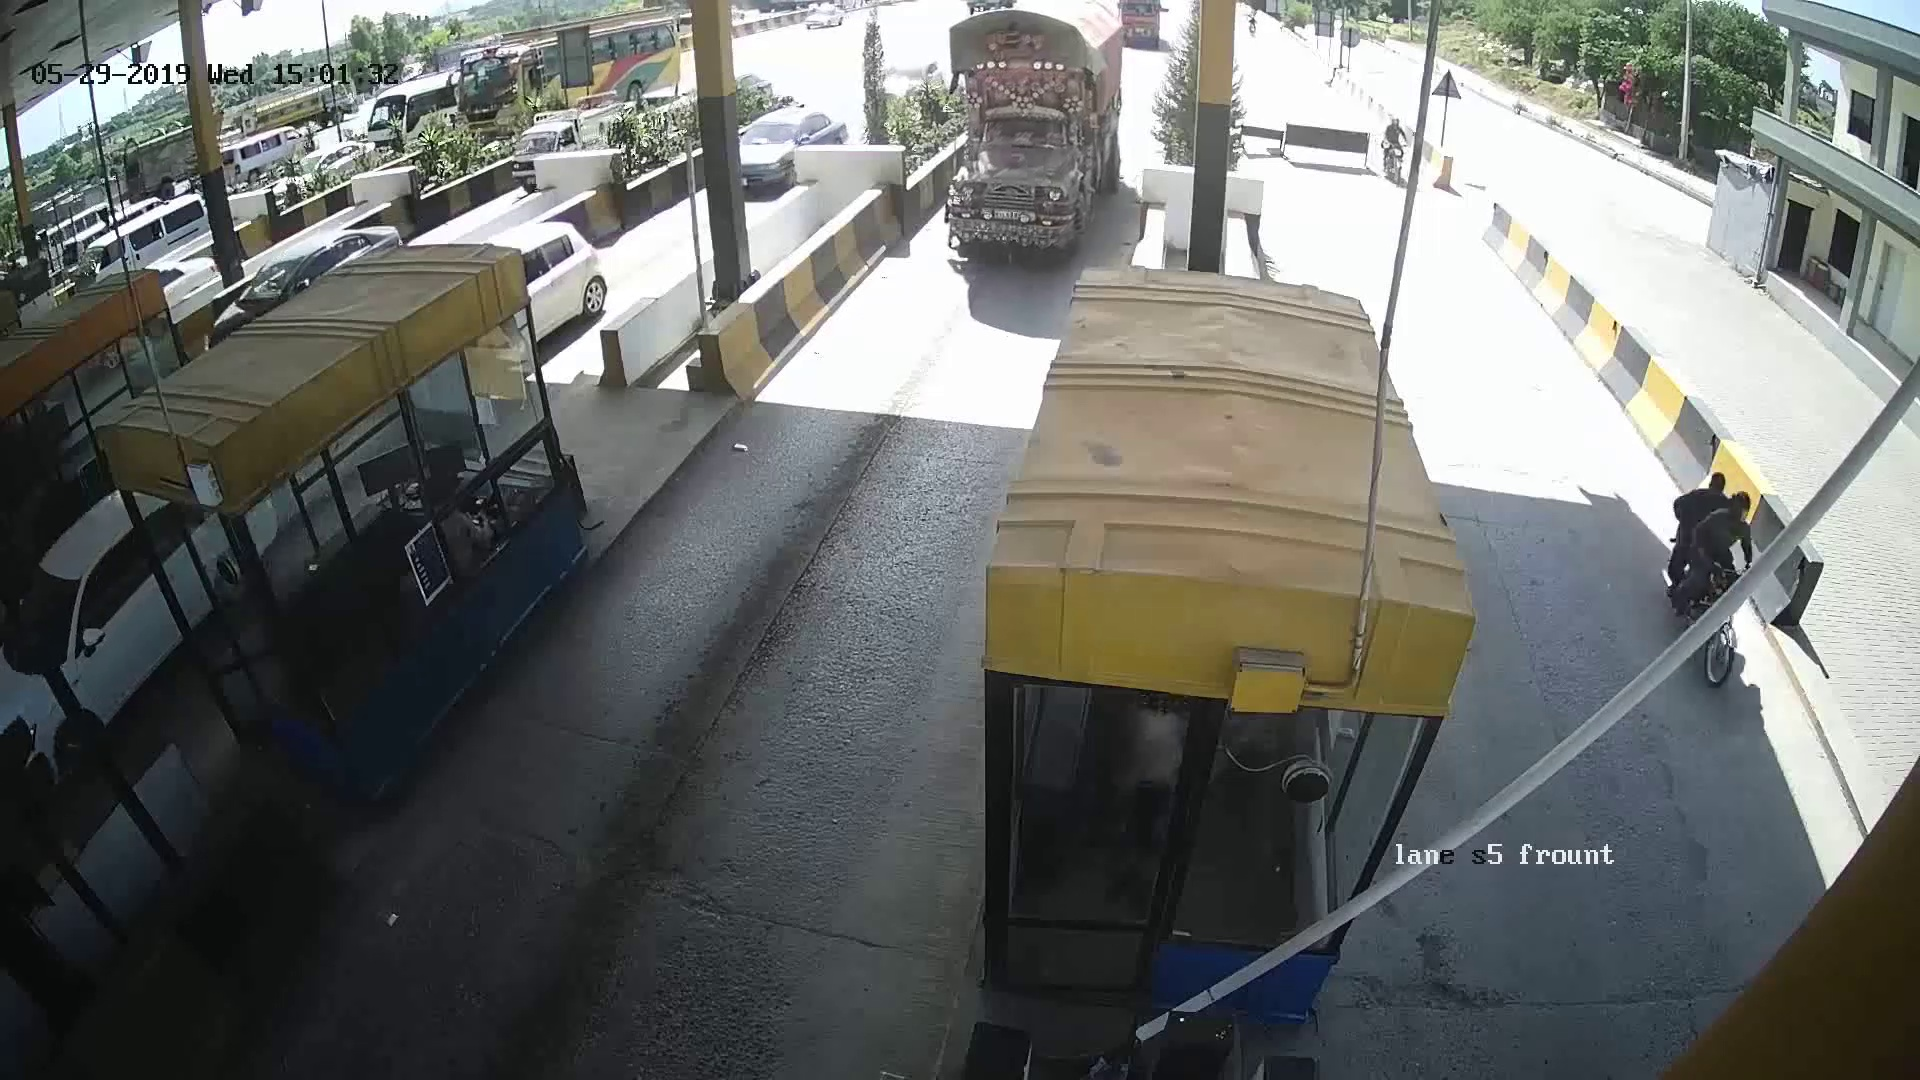truck: (935, 16, 1125, 264)
